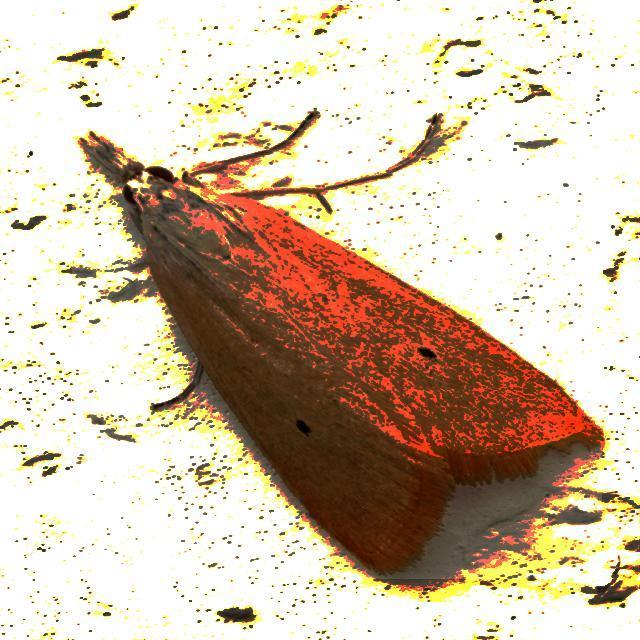stem-borer: (72, 109, 602, 579)
